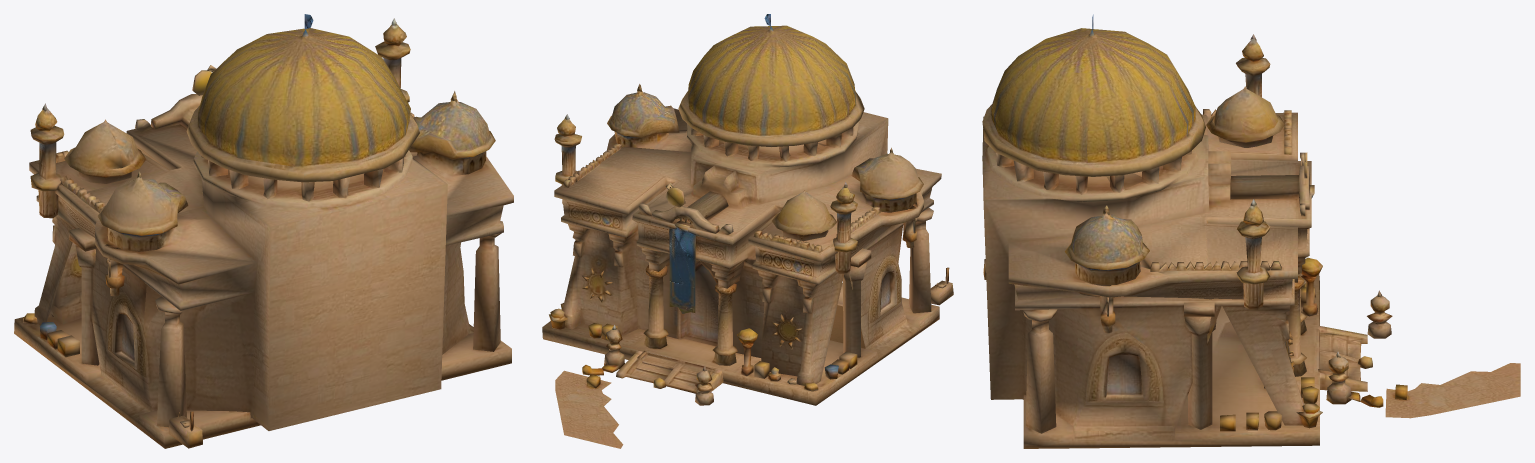
Rendered from sunspear_palace.glb.
3 views of the same model, side by side, from view 1: azimuth 30°, elevation 25°; view 2: azimuth 150°, elevation 25°; view 3: azimuth 270°, elevation 25° (orthographic). The views are drawn at different scales.
Bounding box in the file's own units: 16.18 × 15 × 20.08.
1 material, 1 textured.
